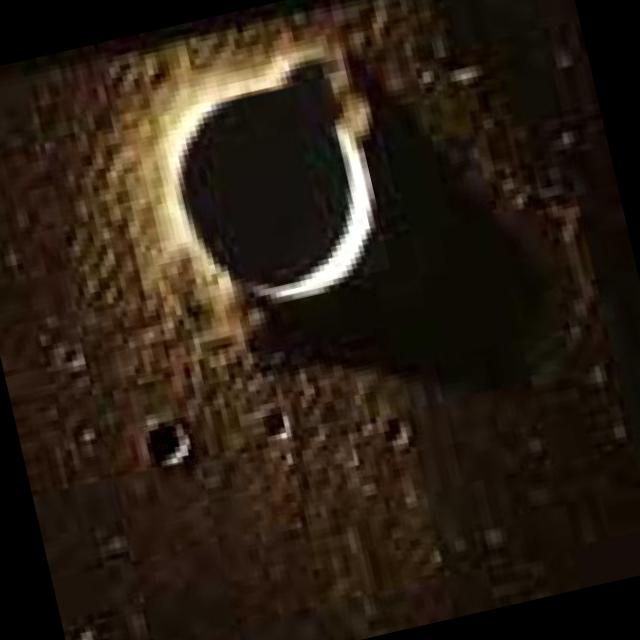crater: (149, 41, 390, 311), (137, 416, 196, 468)
